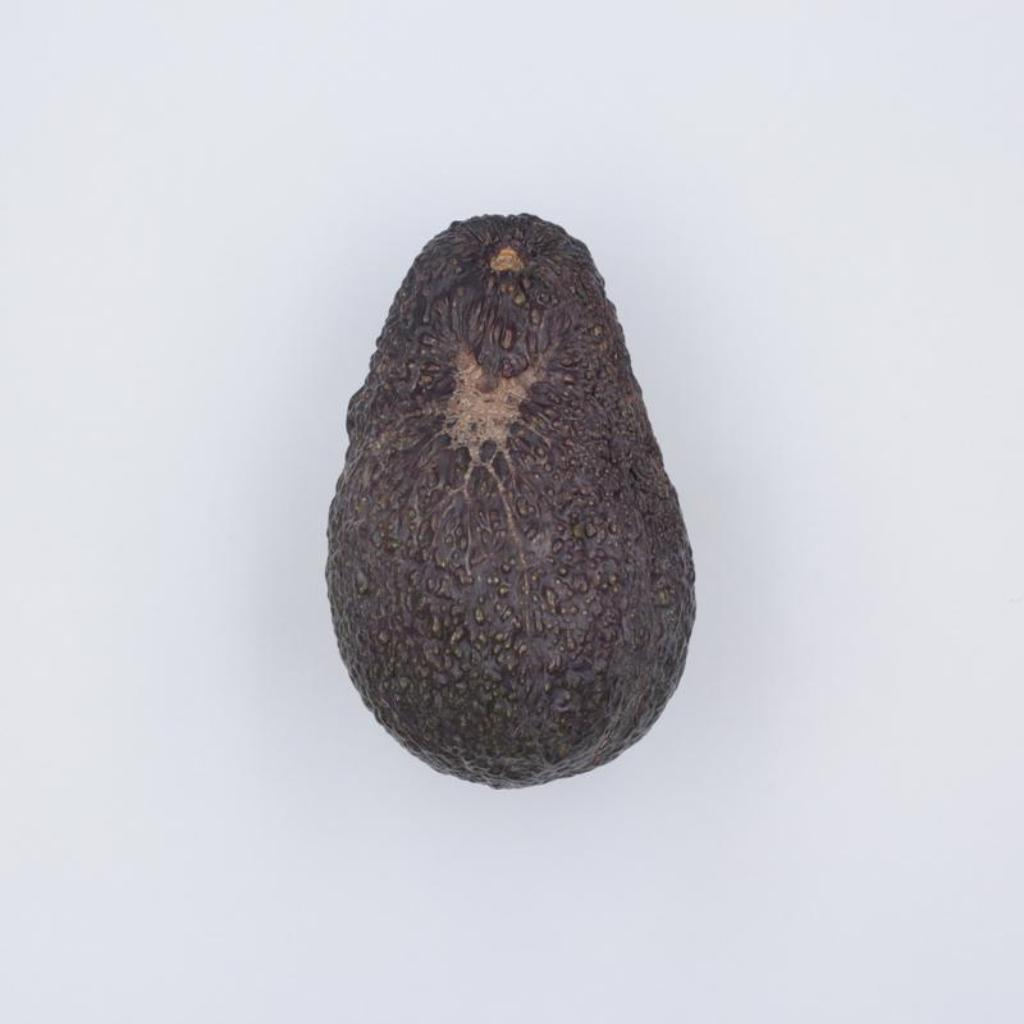rona: (325, 214, 694, 787)
